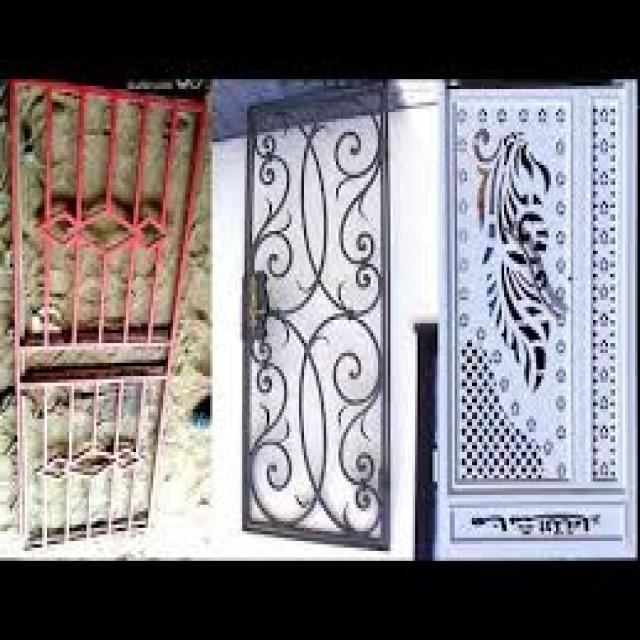door: (450, 77, 638, 563)
